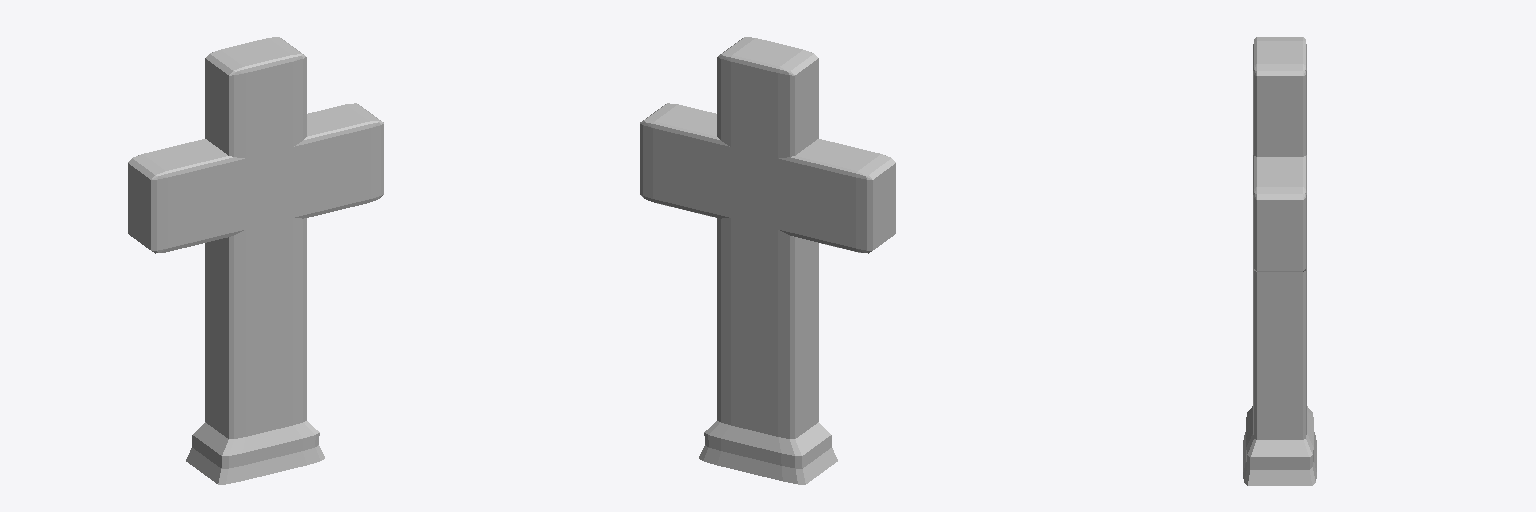
File: tombstone.obj
The picture shows the model from 3 angles: view 1: azimuth 30°, elevation 25°; view 2: azimuth 150°, elevation 25°; view 3: azimuth 270°, elevation 25°; orthographic projection.
Parts seen in each view (by area): view 1: Tombstone; view 2: Tombstone; view 3: Tombstone.
Boxes of the visible parts, x1,y1,x2,y2 form: Tombstone: [128, 37, 383, 484]; Tombstone: [640, 37, 895, 484]; Tombstone: [1243, 37, 1316, 485].
Size of the model in its own units: 2 by 3.34 by 0.5523.